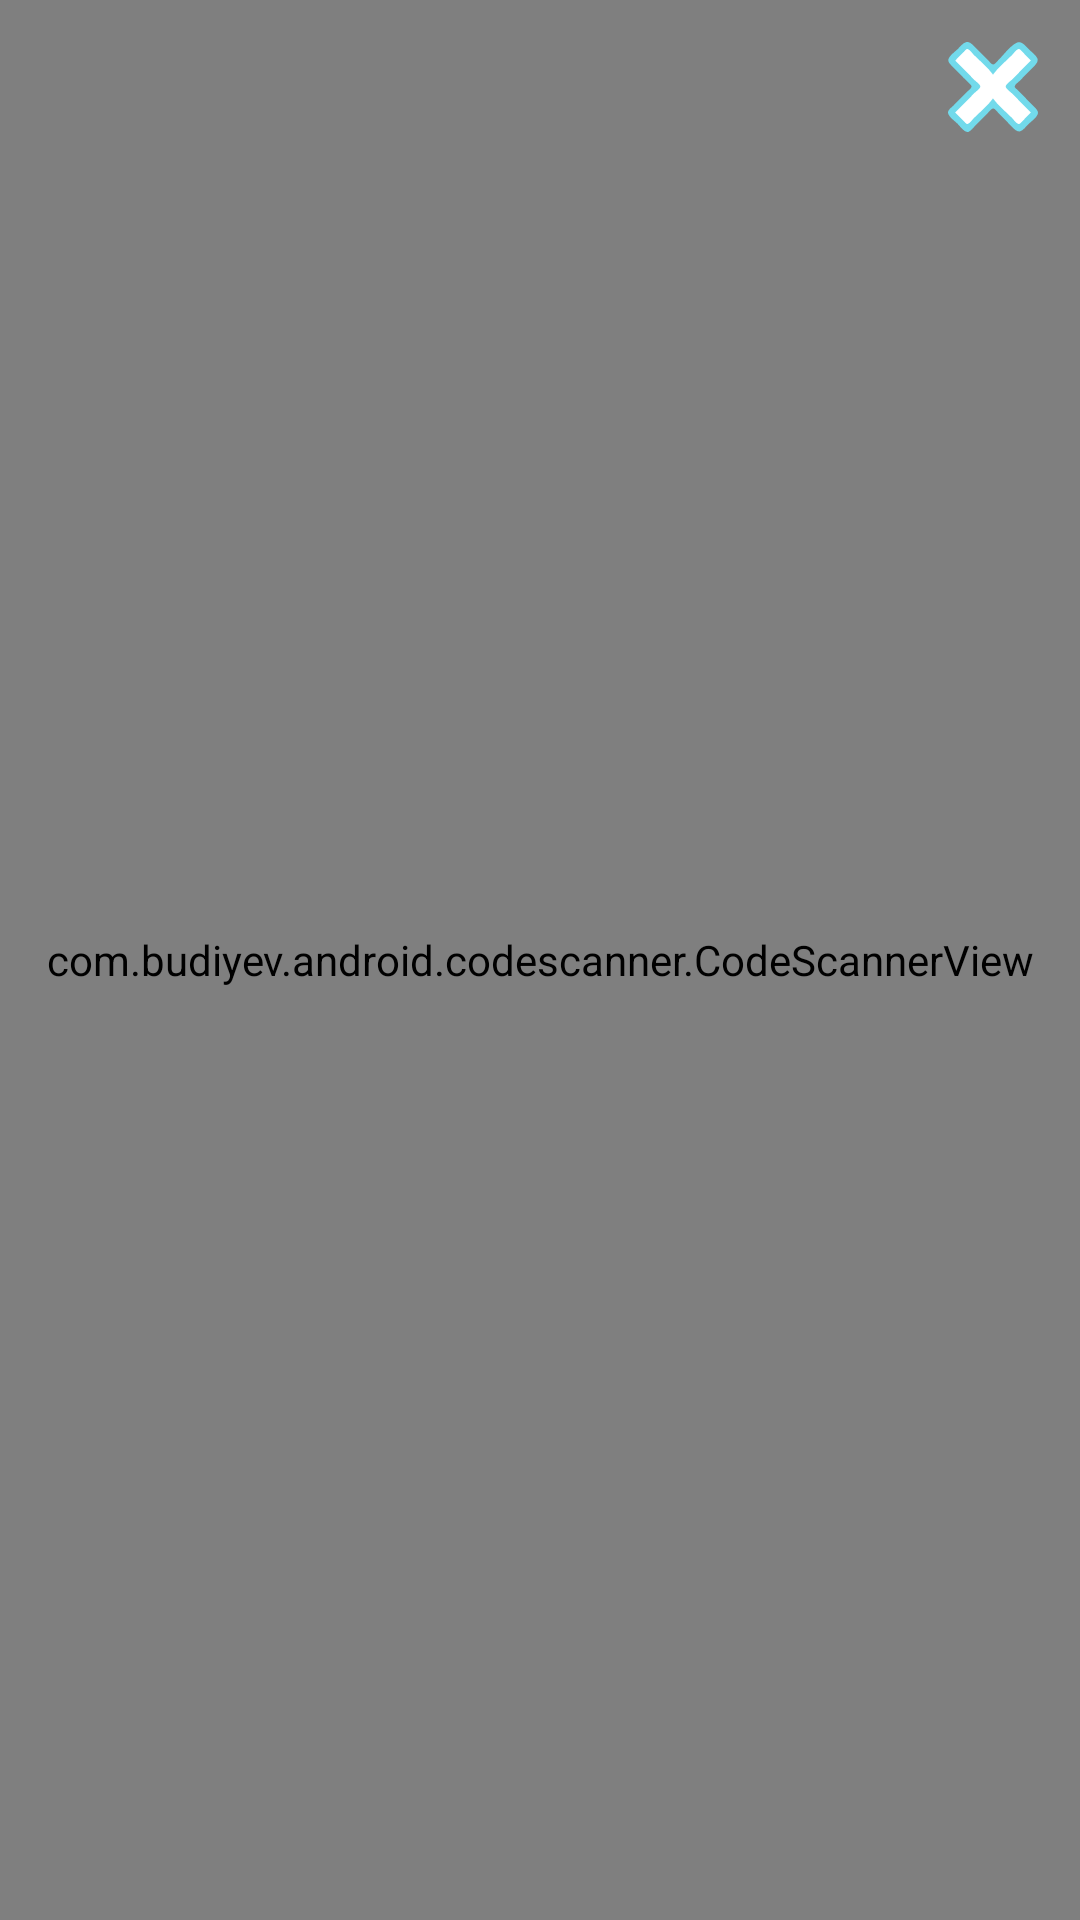

Screen size 1080 x 1920. Icon name, then its box in pixels as (x1, y1, x2, y2):
iks: (948, 42, 1038, 132)
